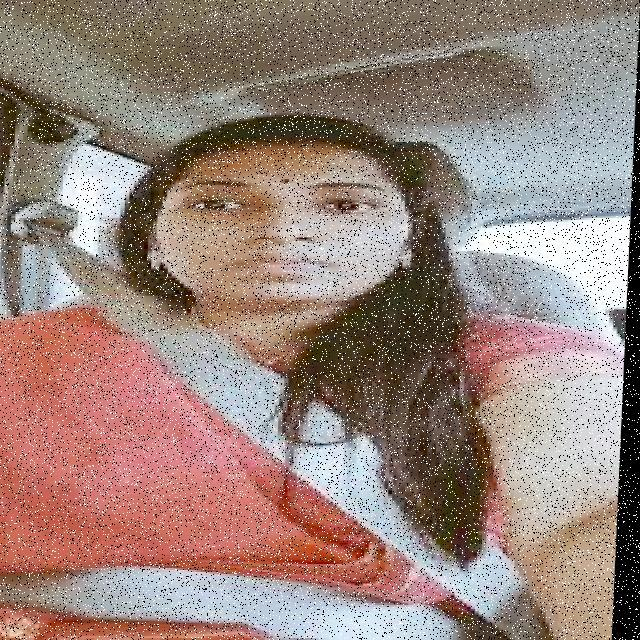seatbelt: (0, 274, 579, 640)
